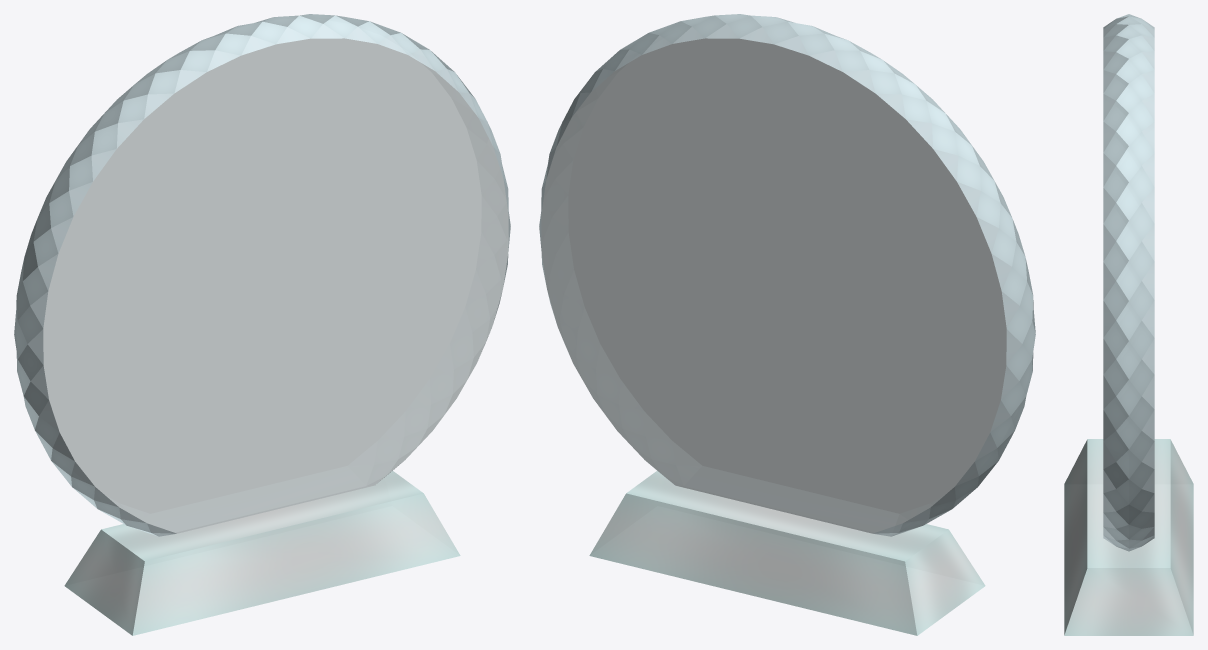
Rendered from t_seelenk.glb.
3 views of the same model, side by side, from view 1: azimuth 30°, elevation 25°; view 2: azimuth 150°, elevation 25°; view 3: azimuth 270°, elevation 25° (orthographic). The views are drawn at different scales.
Parts seen in each view (by area): view 1: Kristall_Trophaee_Rund_Facettenschliff; view 2: Kristall_Trophaee_Rund_Facettenschliff; view 3: Kristall_Trophaee_Rund_Facettenschliff.
Part boxes in pixels (x1,y1,x2,y2): Kristall_Trophaee_Rund_Facettenschliff: (14,14,510,635); Kristall_Trophaee_Rund_Facettenschliff: (539,14,1035,635); Kristall_Trophaee_Rund_Facettenschliff: (1064,14,1193,635).
Size of the model in its own units: 0.878 by 0.9408 by 0.212.
1 material, 1 textured.
